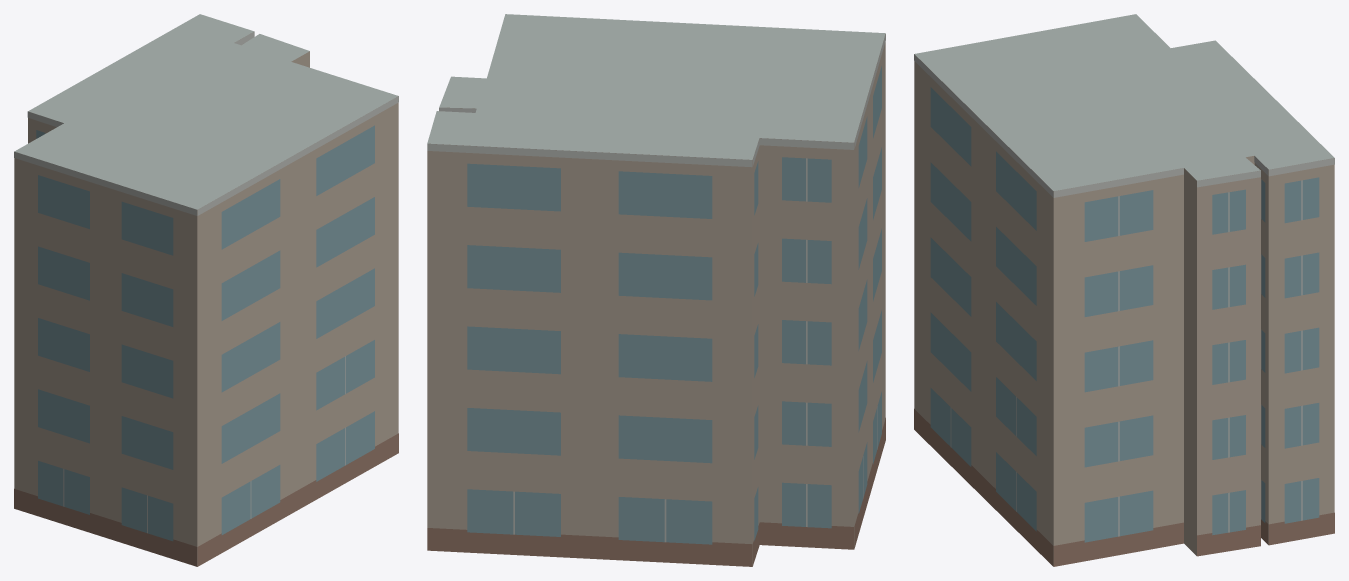
File: survey-upis-32989160.glb
The picture shows the model from 3 angles, left to right: view 1: azimuth 30°, elevation 25°; view 2: azimuth 150°, elevation 25°; view 3: azimuth 270°, elevation 25°; orthographic projection. The views are drawn at different scales.
Visible parts, largest first — view 1: survey-upis-32989160.tmp; view 2: survey-upis-32989160.tmp; view 3: survey-upis-32989160.tmp.
Boxes of the visible parts, <box> form: survey-upis-32989160.tmp: <box>14,14,398,566</box>; survey-upis-32989160.tmp: <box>427,14,885,566</box>; survey-upis-32989160.tmp: <box>914,14,1334,566</box>.
Size of the model in its own units: 13.82 by 13.65 by 13.86.
